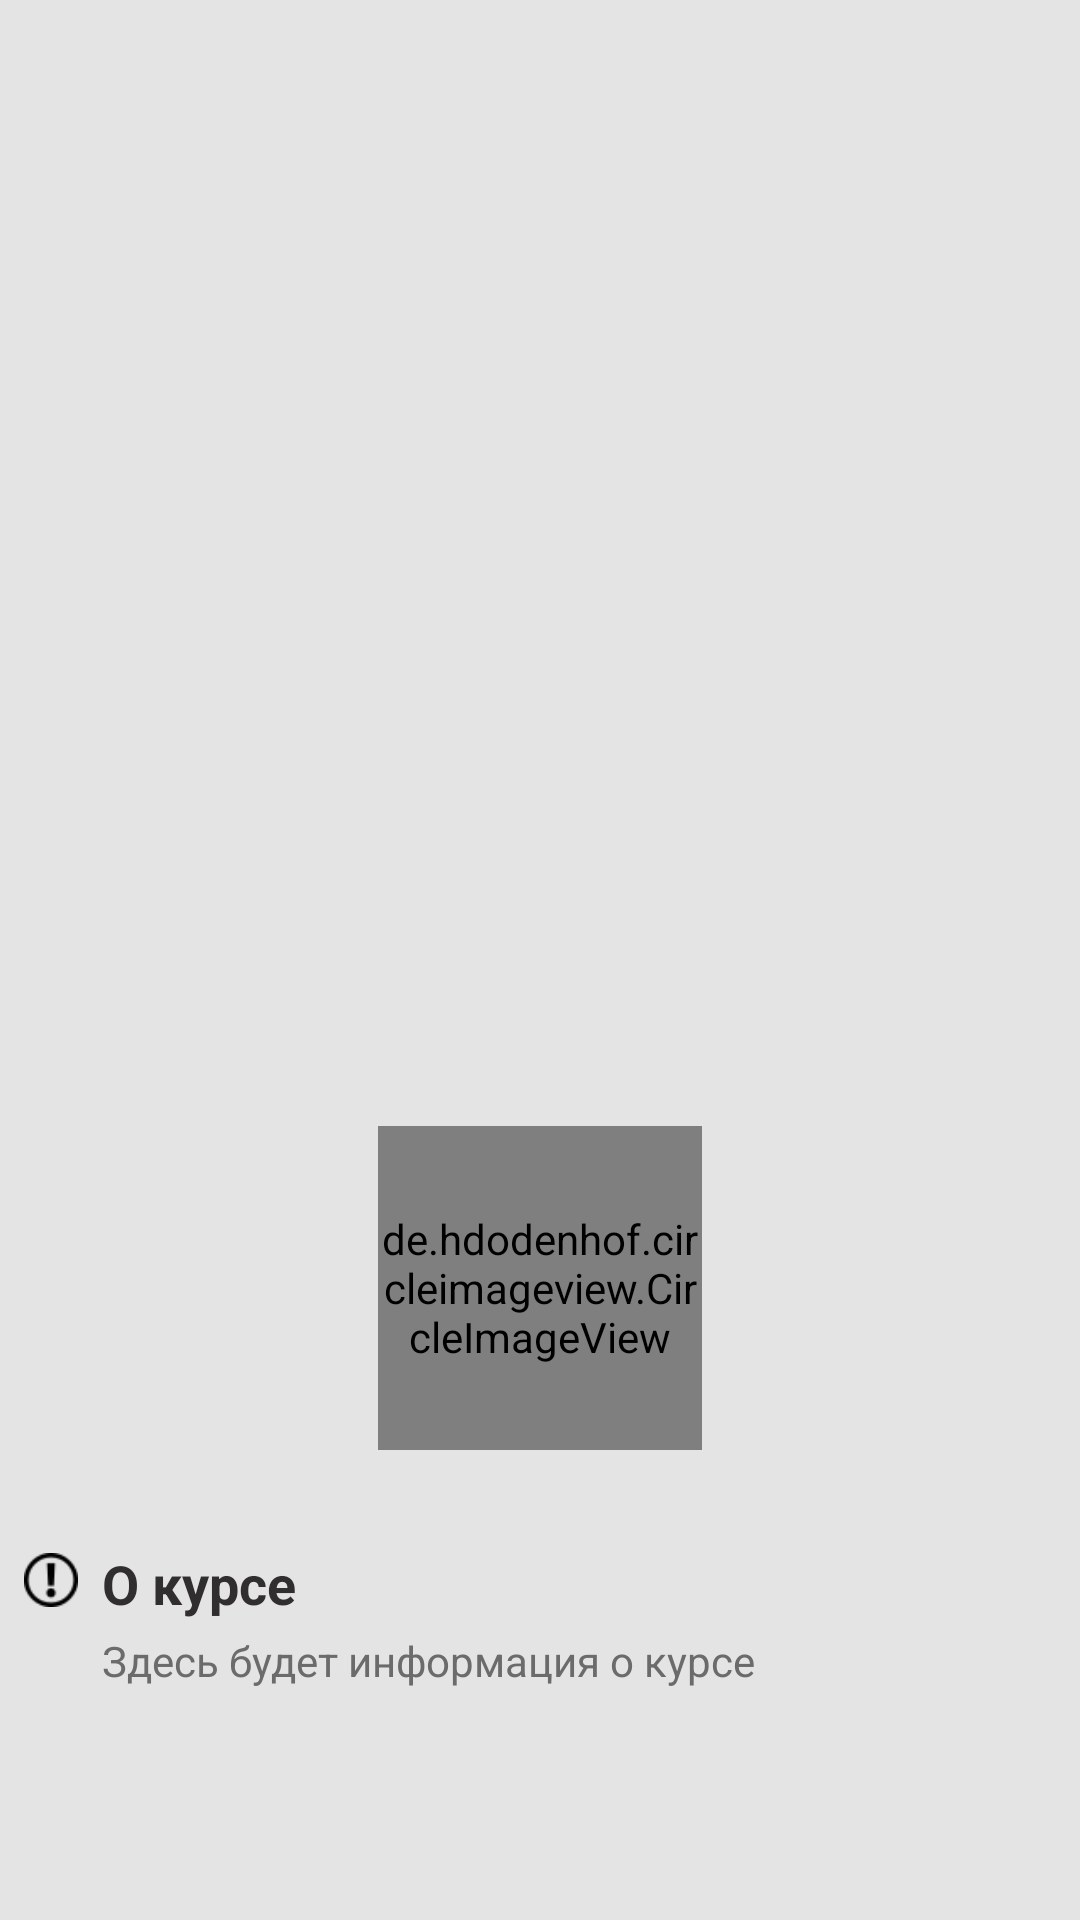

Icon bounding boxes for this 1080×1920 phone screenshot, format box=[x1, y1, x2, y2]:
info: box=[24, 1553, 78, 1607]
